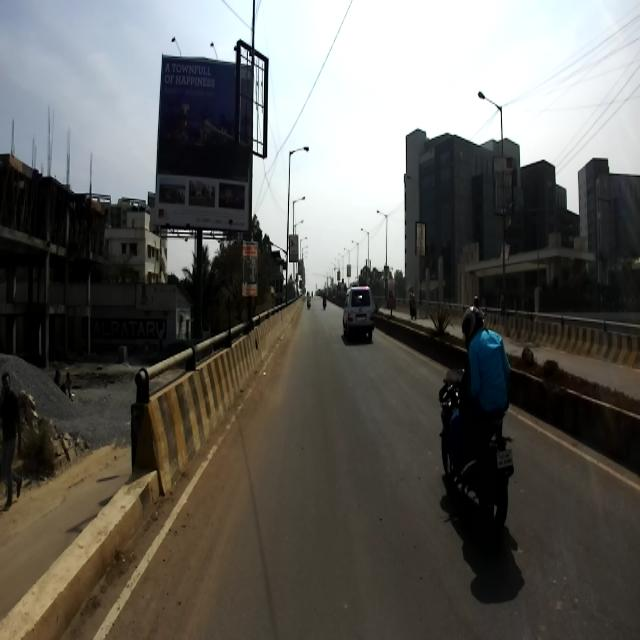motorcycle ahead at: (430, 375, 521, 544)
